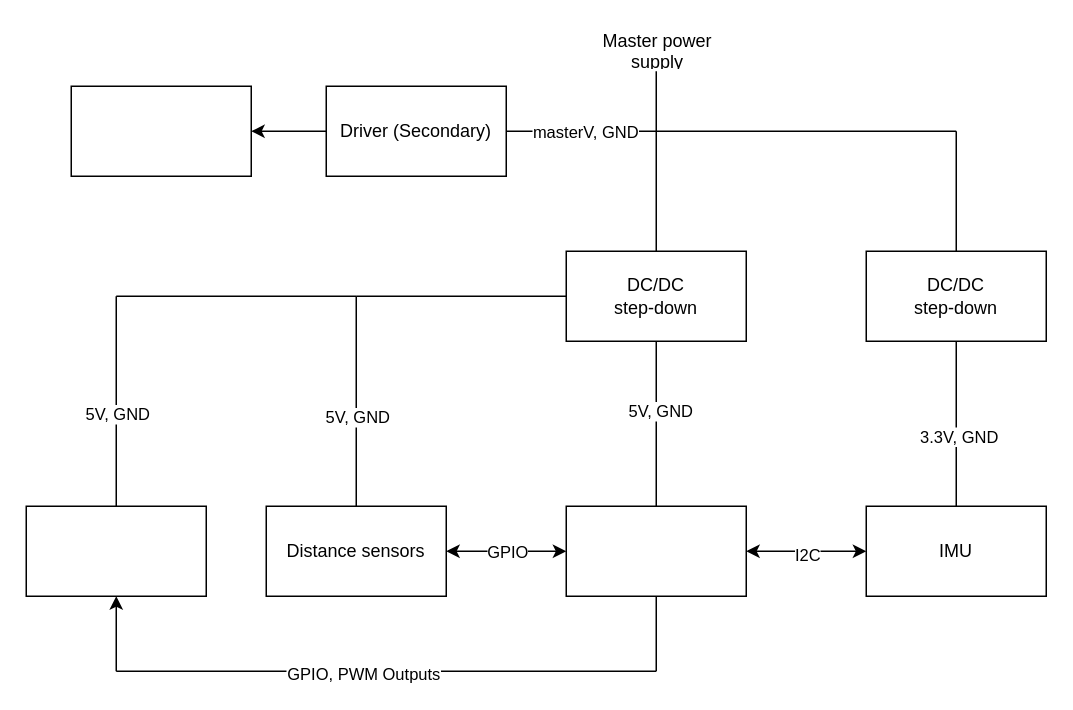
Image size: 1073x710. Some labels were removed from this diagram. Here are the shapes that lost their labels. From the top down, the box of each, then its label:
(70, 85, 251, 176): Motors
(25, 505, 206, 596): Driver (Logic)
(565, 505, 746, 596): MCU
